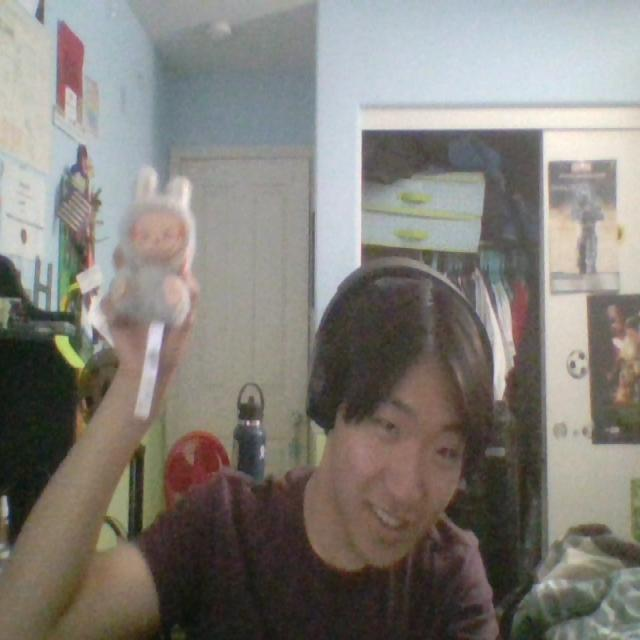labubu: (104, 168, 195, 325)
